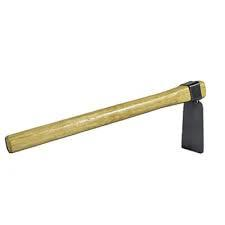HOUE: (0, 76, 225, 206)
